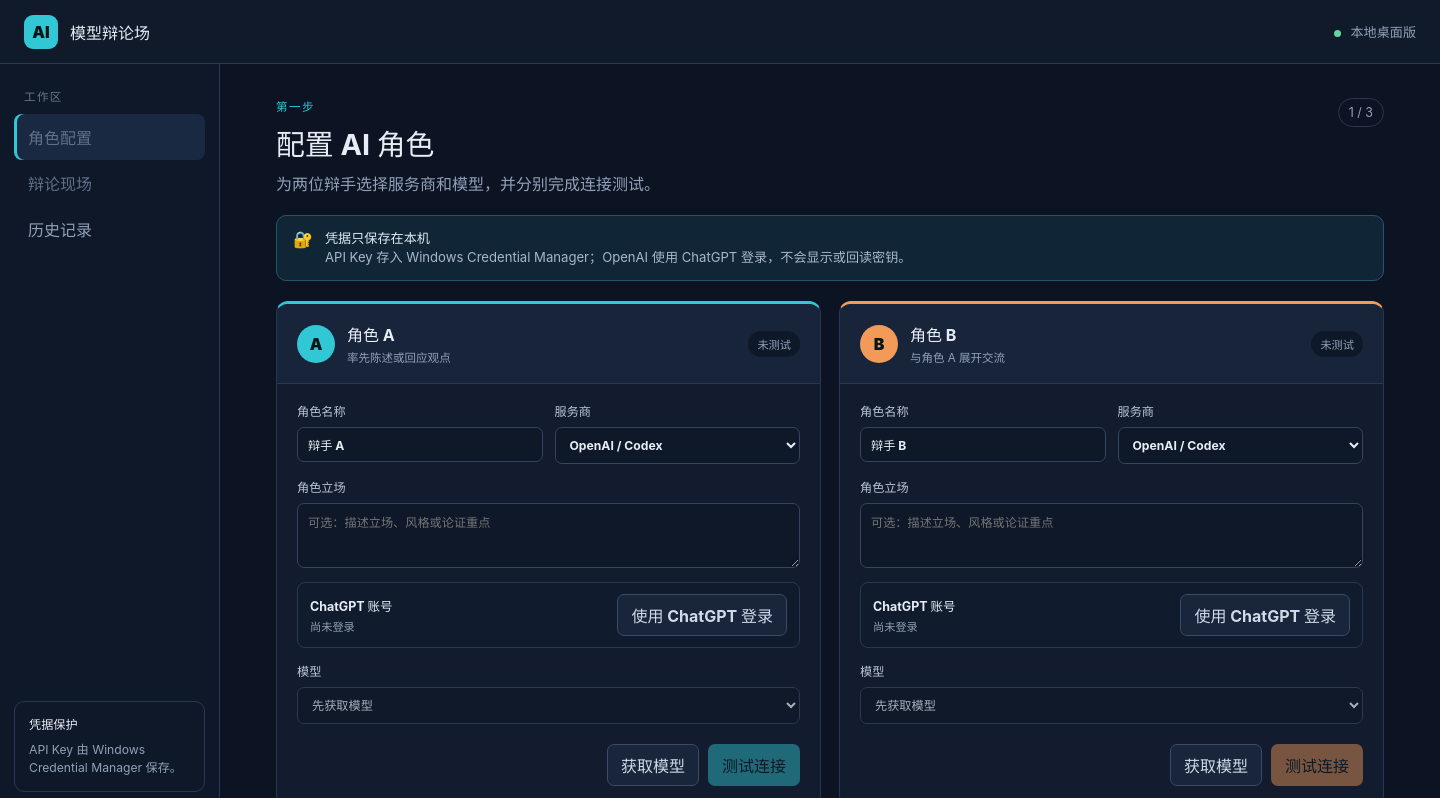
role configuration page › clears an entered API key after storing it and never sends it in saved role config
Select "Kimi" in the dropdown labelled "服务商" below "率先陈述或回应观点" at (677, 446), box [554, 427, 800, 464]
(page scrolled)
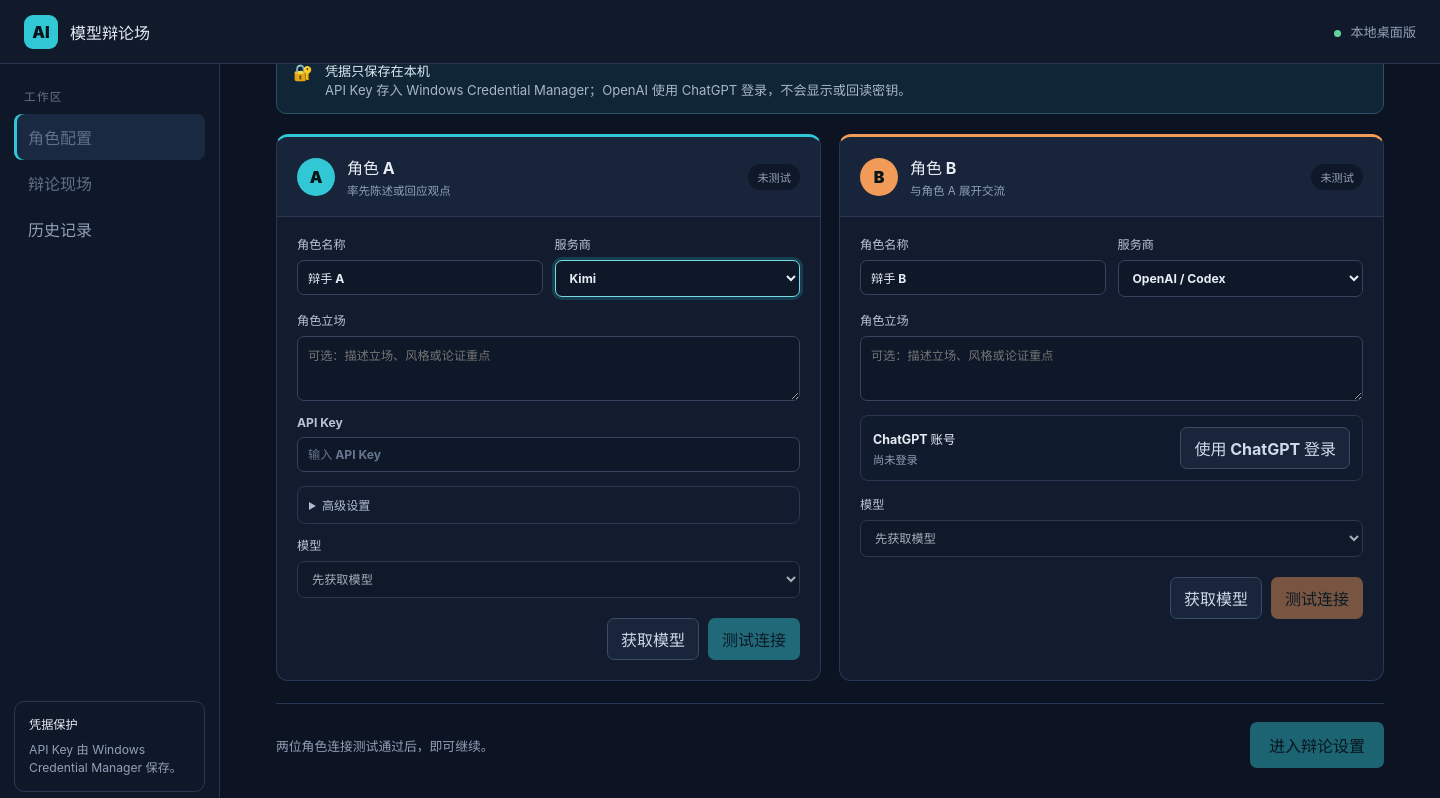
Click the button "获取模型" below "高级设置" at (653, 639), box [607, 618, 699, 660]
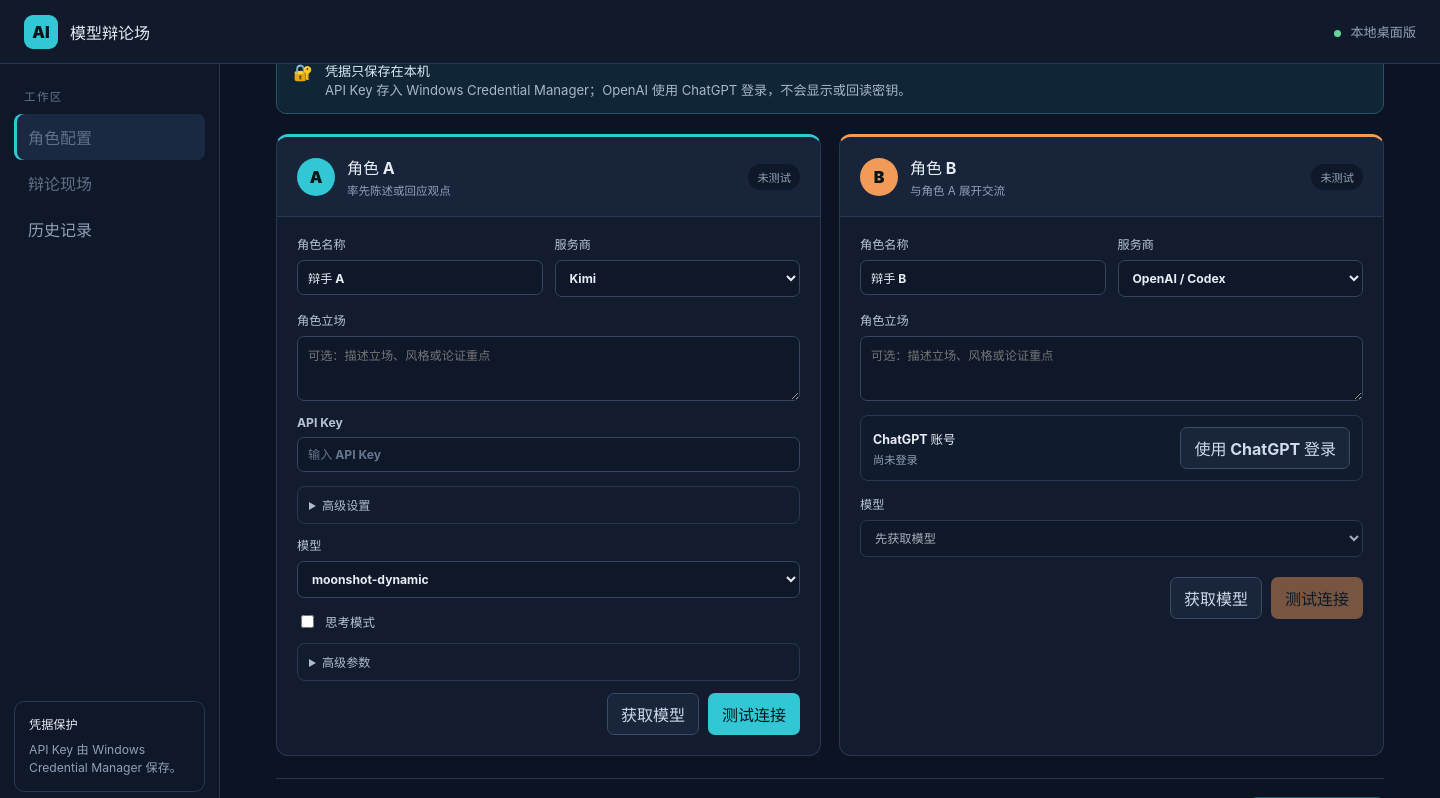
Type "sk-local-secret" into the password field labelled "API Key" at (548, 455), box [297, 437, 800, 472]
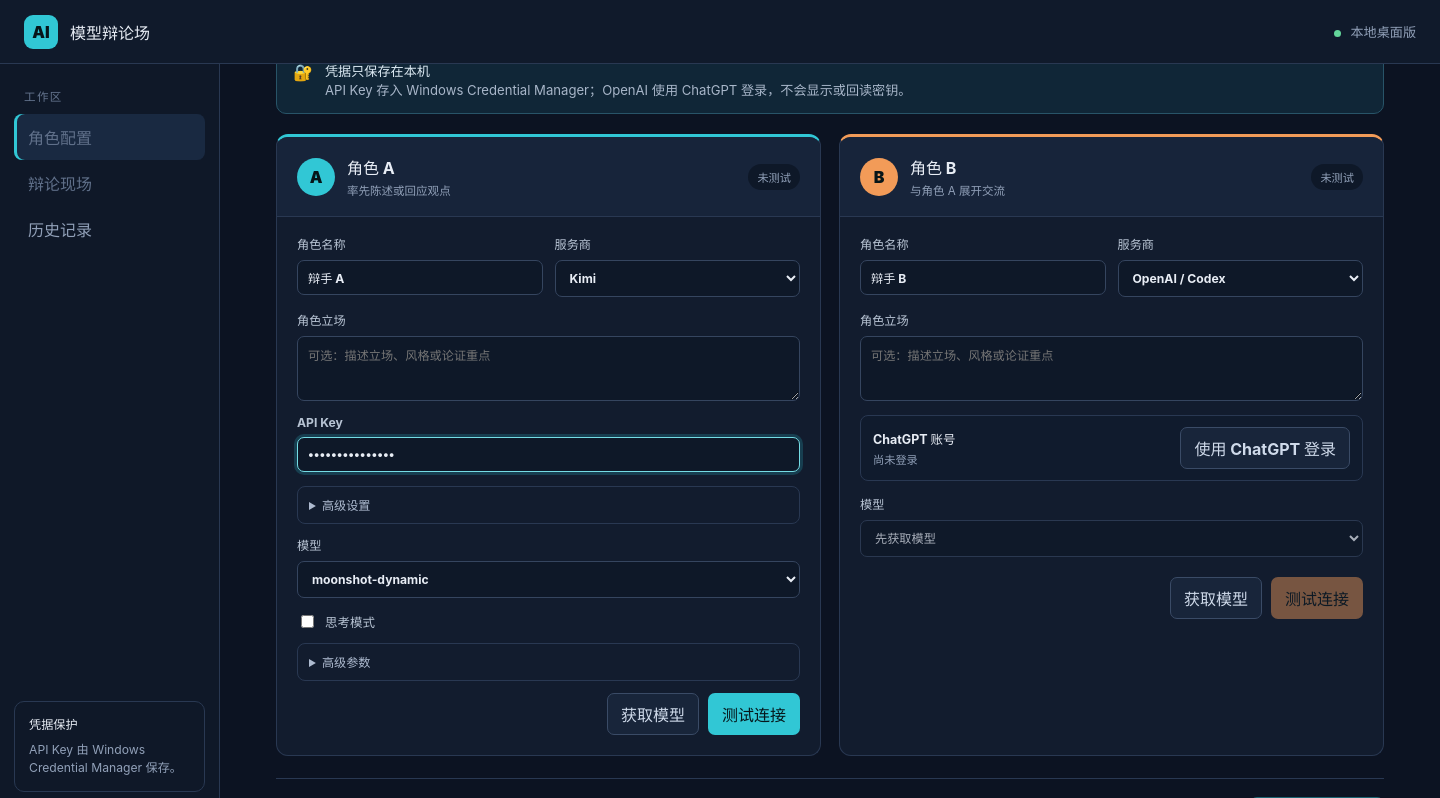
Click the 2nd button "测试连接" at (754, 714), box [708, 693, 800, 735]
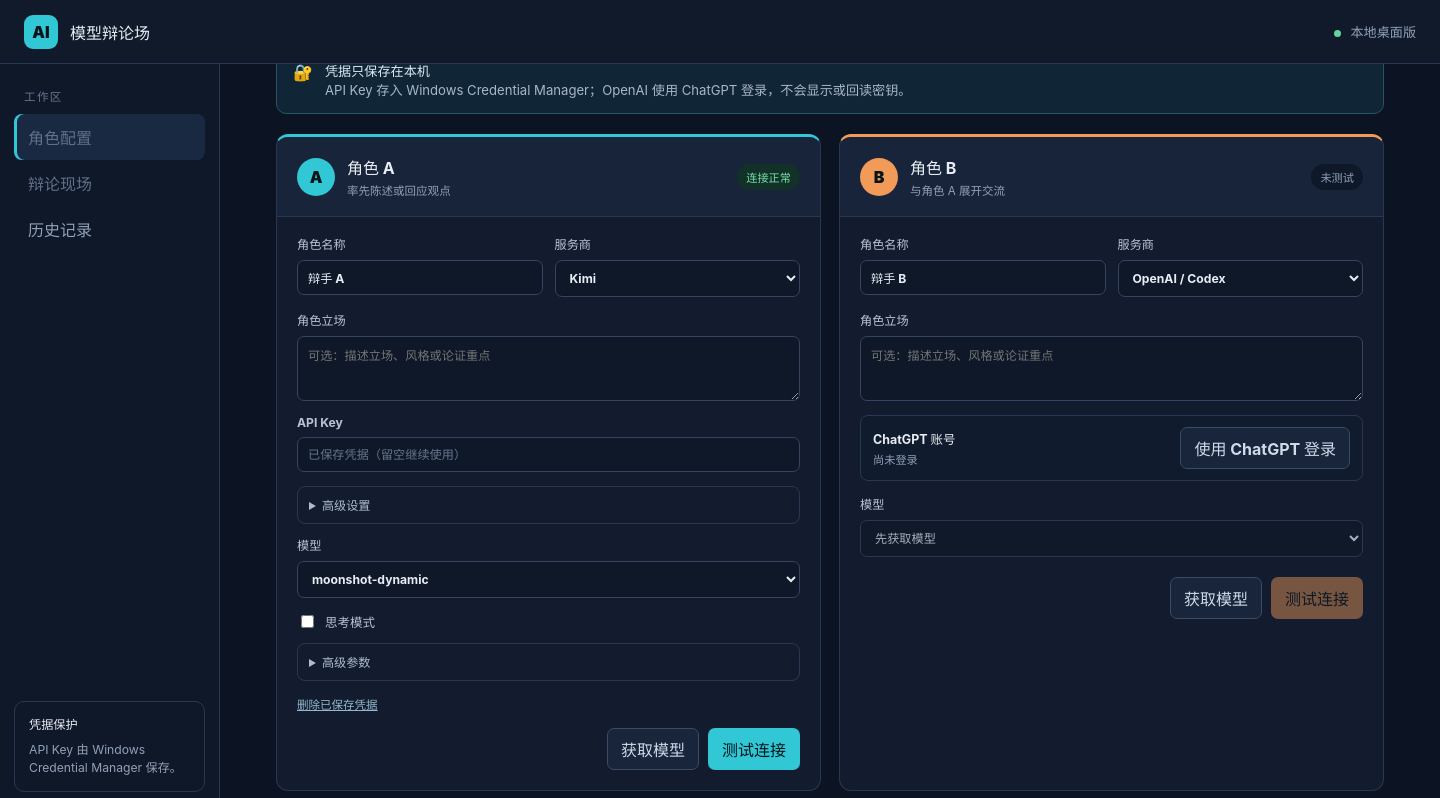
expect the text "连接正常" is shown: met, box [737, 164, 800, 190]
expect the password field labelled "API Key" is empty: met, box [297, 437, 800, 472]
